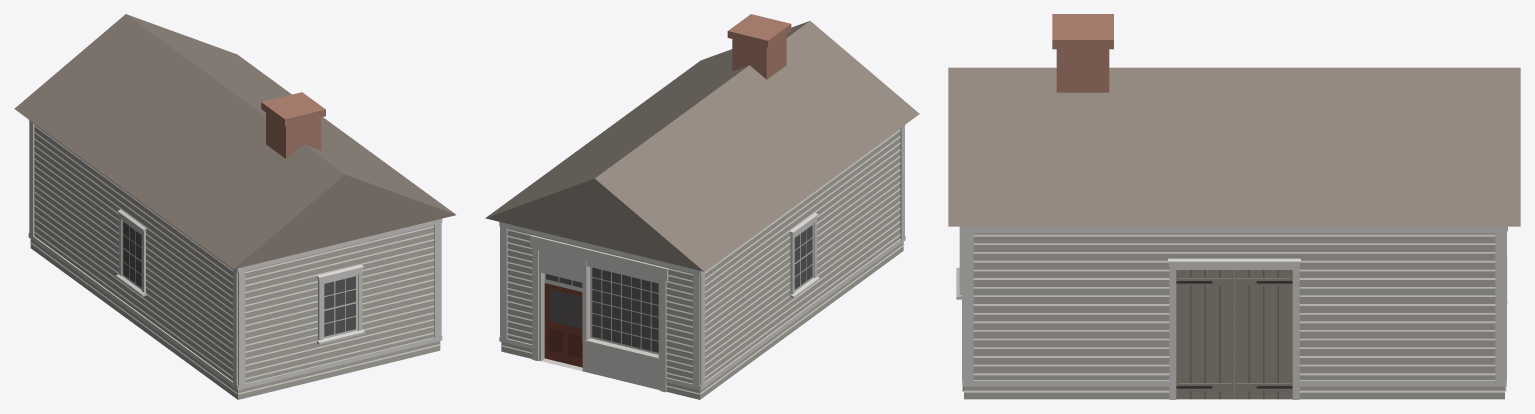
Rendered from recon_1835_core_c1_028__inferred_1835.glb.
3 views of the same model, side by side, from view 1: azimuth 30°, elevation 25°; view 2: azimuth 150°, elevation 25°; view 3: azimuth 270°, elevation 25° (orthographic). The views are drawn at different scales.
Visible parts, largest first — view 1: recon_1835_core_c1_028__inferred_1835; view 2: recon_1835_core_c1_028__inferred_1835; view 3: recon_1835_core_c1_028__inferred_1835.
Boxes of the visible parts, <box> form: recon_1835_core_c1_028__inferred_1835: <box>14,14,455,399</box>; recon_1835_core_c1_028__inferred_1835: <box>485,14,919,399</box>; recon_1835_core_c1_028__inferred_1835: <box>948,14,1520,399</box>.
Size of the model in its own units: 5.34 by 5.4 by 9.1.
